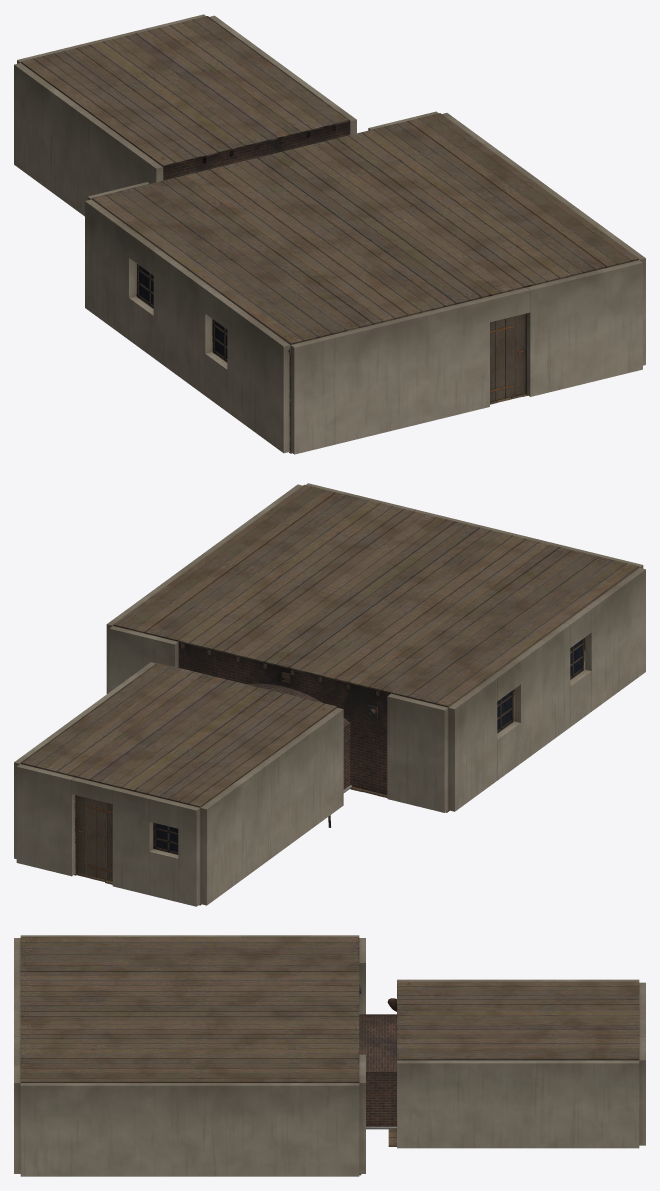
File: spouter_inn.gltf
The picture shows the model from 3 angles, top to bottom: view 1: azimuth 30°, elevation 25°; view 2: azimuth 150°, elevation 25°; view 3: azimuth 270°, elevation 25°; orthographic projection. The views are drawn at different scales.
Parts seen in each view (by area): view 1: MESH_CeilingBoards, MESH_Plaster, MESH_DoorPlanks, MESH_Brick, MESH_Wainscot, MESH_NightPane; view 2: MESH_CeilingBoards, MESH_Plaster, MESH_Brick, MESH_DoorPlanks, MESH_NightPane, MESH_Wainscot; view 3: MESH_CeilingBoards, MESH_Plaster, MESH_Brick.
Part boxes in pixels (x1=…): MESH_CeilingBoards: x1=21, y1=16, x2=638, y2=344; MESH_Plaster: x1=14, y1=14, x2=645, y2=454; MESH_DoorPlanks: x1=212, y1=313, x2=525, y2=451; MESH_Brick: x1=163, y1=121, x2=350, y2=180; MESH_Wainscot: x1=136, y1=264, x2=526, y2=393; MESH_NightPane: x1=139, y1=265, x2=227, y2=358; MESH_CeilingBoards: x1=20, y1=484, x2=639, y2=807; MESH_Plaster: x1=14, y1=483, x2=645, y2=906; MESH_Brick: x1=178, y1=642, x2=390, y2=794; MESH_DoorPlanks: x1=76, y1=689, x2=514, y2=881; MESH_NightPane: x1=156, y1=640, x2=582, y2=852; MESH_Wainscot: x1=74, y1=637, x2=585, y2=873; MESH_CeilingBoards: x1=20, y1=937, x2=639, y2=1082; MESH_Plaster: x1=14, y1=935, x2=645, y2=1176; MESH_Brick: x1=359, y1=1014, x2=396, y2=1126.
Size of the model in its own units: 8.52 by 2.96 by 15.12.
Materials: 33 (33 with a texture image).
